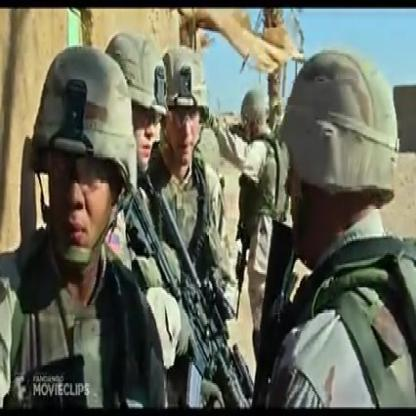Gun: (116, 170, 235, 412)
